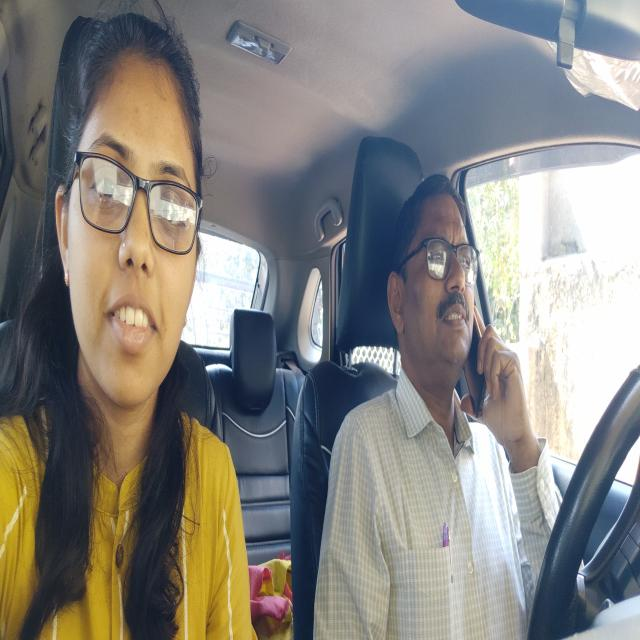mobile: (464, 308, 496, 429)
person: (53, 7, 207, 422), (388, 165, 488, 440)
